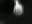person: (12, 1, 26, 18)
